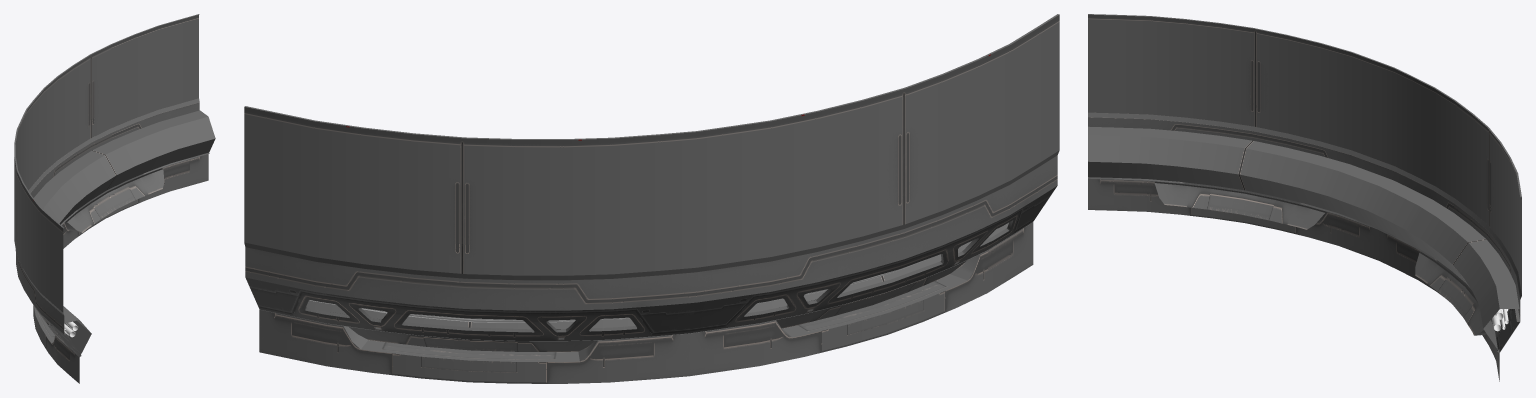
The model's file is TopCables_Corner_Round_Outer.gltf.
3 renders of one model, left to right at view 1: azimuth 30°, elevation 25°; view 2: azimuth 150°, elevation 25°; view 3: azimuth 270°, elevation 25°, orthographic. The views are drawn at different scales.
Visible parts, largest first — view 1: TopCables_Corner_Round_Outer; view 2: TopCables_Corner_Round_Outer; view 3: TopCables_Corner_Round_Outer.
Boxes of the visible parts, x1=… form: TopCables_Corner_Round_Outer: x1=14, y1=14, x2=215, y2=383; TopCables_Corner_Round_Outer: x1=244, y1=14, x2=1059, y2=383; TopCables_Corner_Round_Outer: x1=1088, y1=14, x2=1521, y2=381.
Bounding box in the file's own units: 4.22 × 2 × 4.22.
4 materials, 3 textured.
